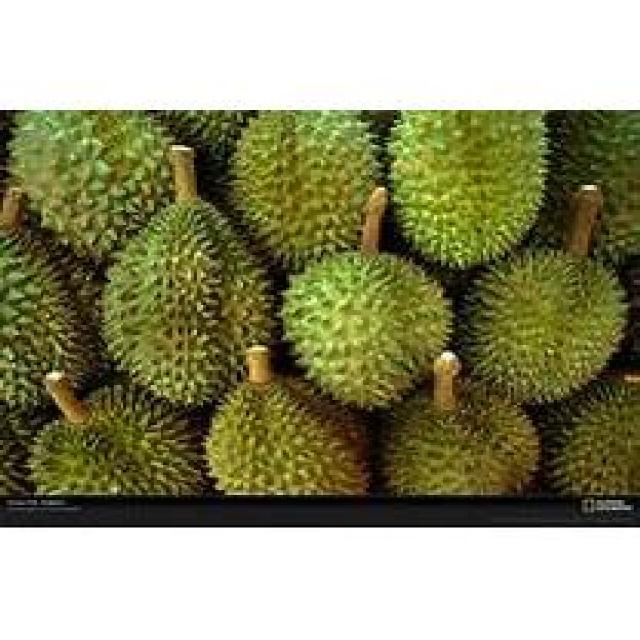fruit: (80, 178, 302, 438), (264, 225, 468, 440), (0, 132, 123, 488), (440, 225, 637, 427), (375, 110, 563, 290), (209, 110, 397, 285), (9, 363, 225, 515), (190, 365, 384, 513), (363, 370, 554, 512)
